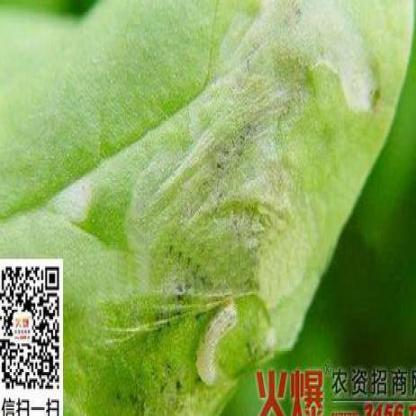whorl-maggot: (194, 292, 244, 403)
